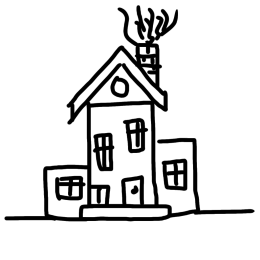closed_window: (91, 131, 120, 176), (123, 115, 148, 167), (160, 156, 189, 195), (54, 172, 85, 201)
door: (117, 172, 152, 210)
roof: (63, 43, 174, 122)
single_line_roof: (148, 127, 204, 149), (40, 155, 95, 175)
smoking_chimney: (116, 0, 181, 90)
wall: (82, 100, 161, 214)
